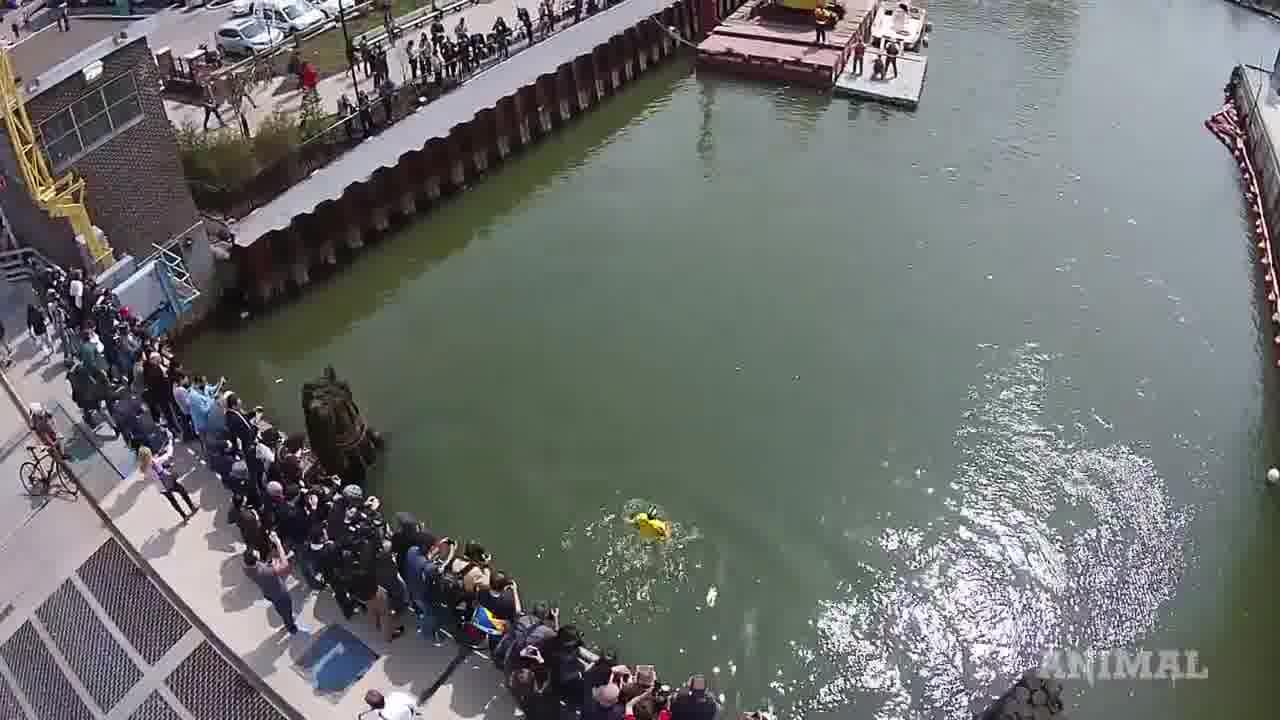human: (624, 489, 690, 558)
